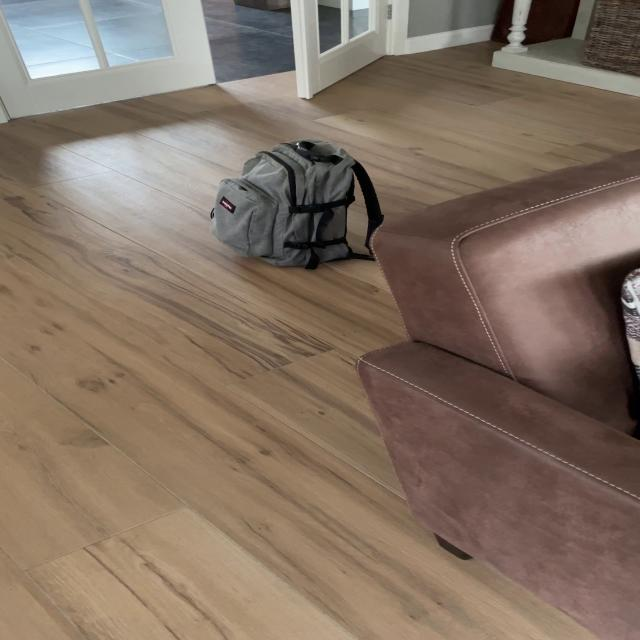backpack: (199, 134, 381, 273)
